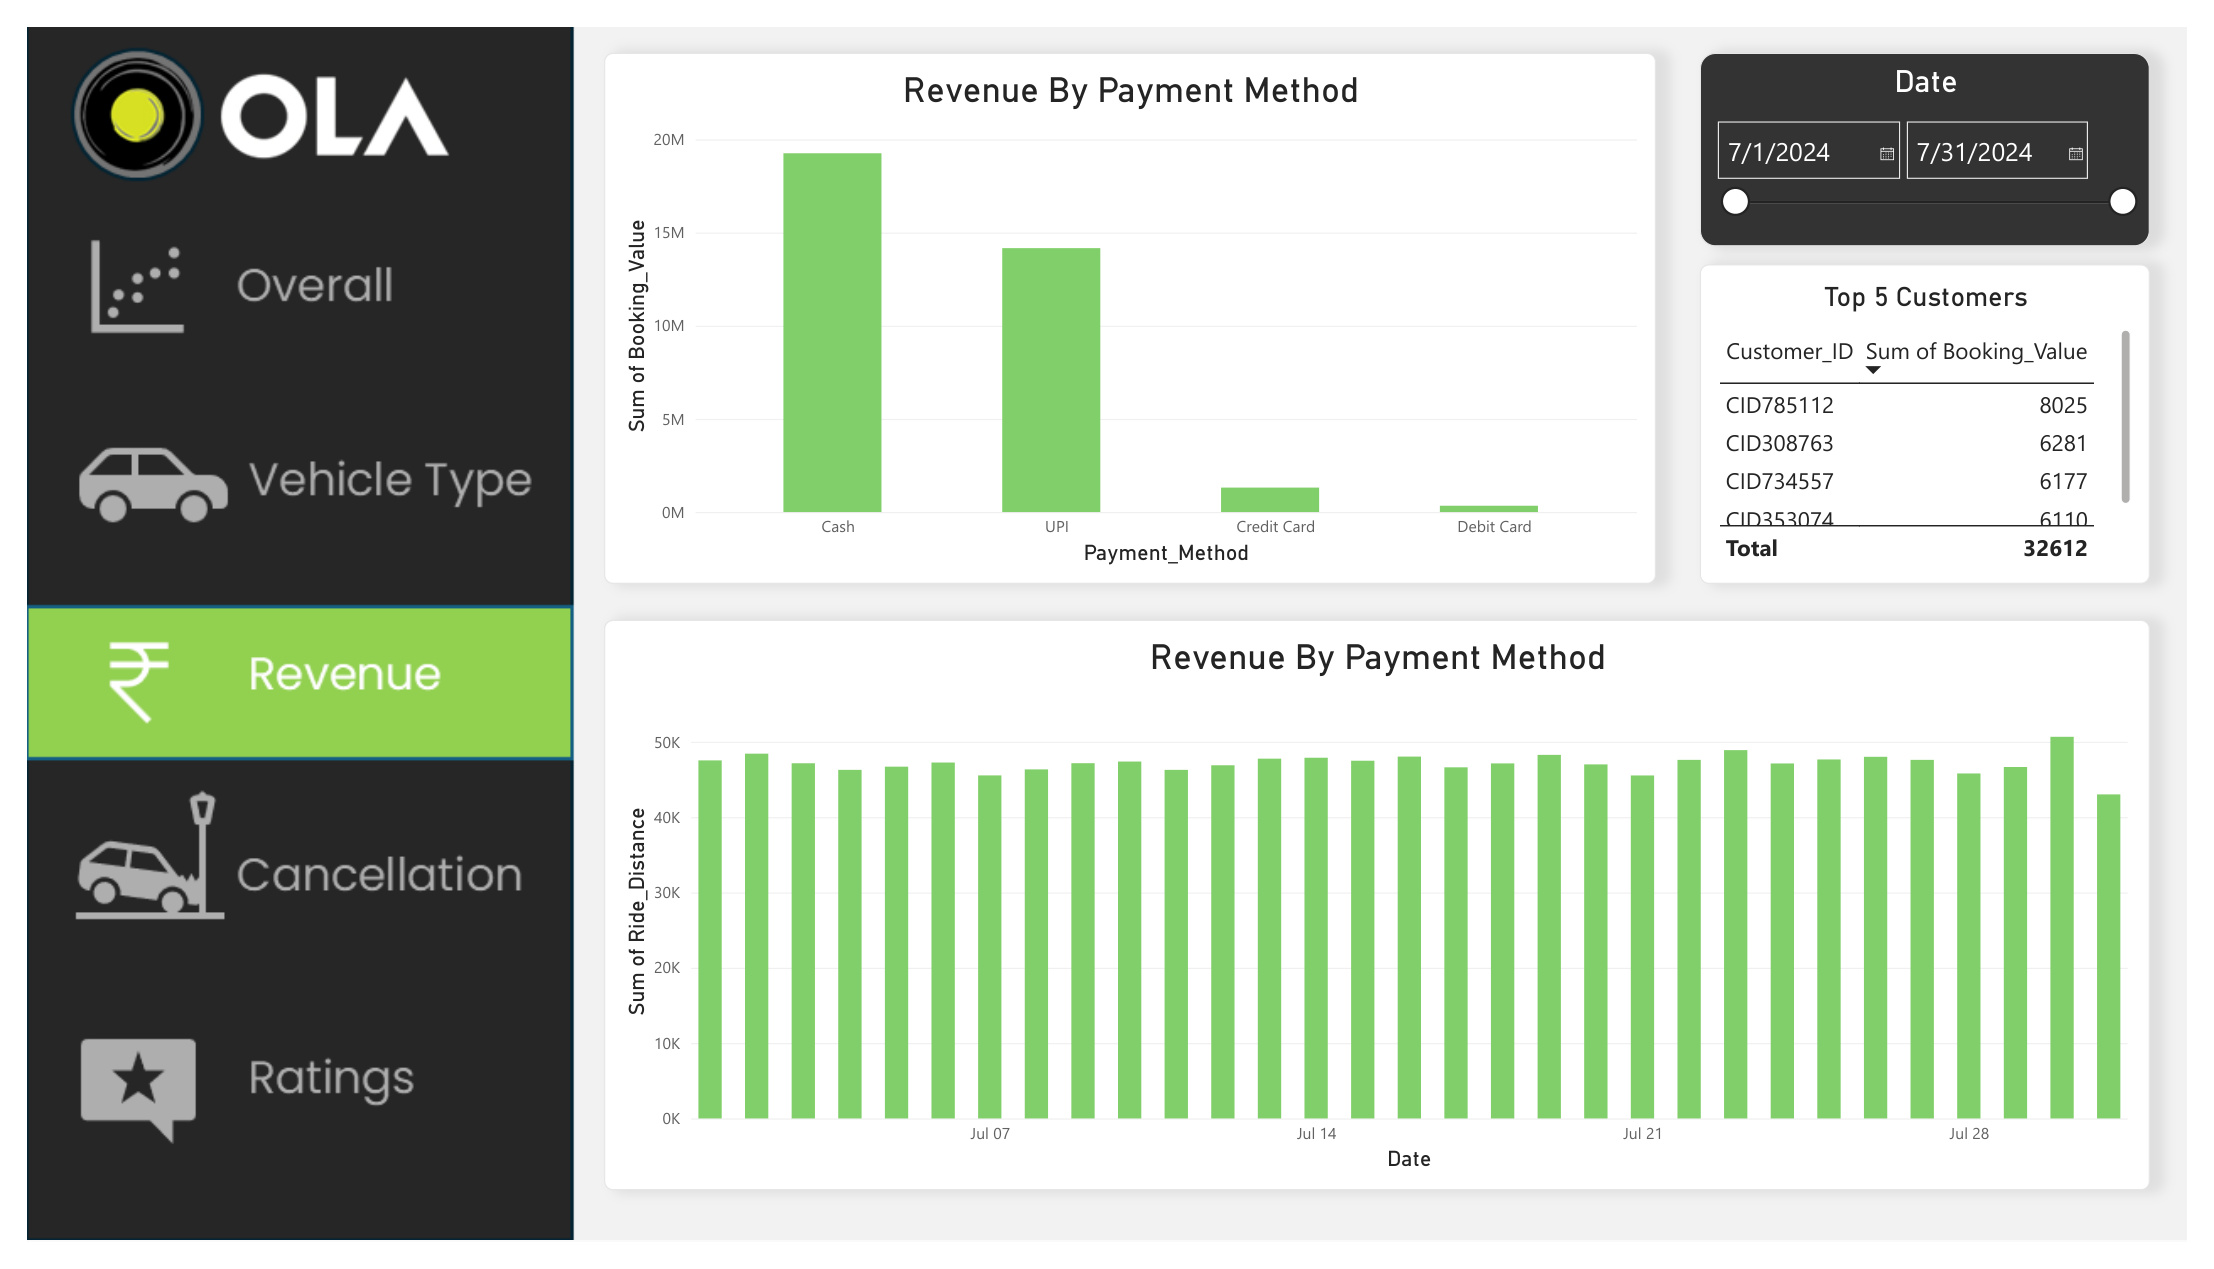

This screenshot's page, from the dashboard's own definition file:
{"tool":"powerbi","page":{"name":"Revenue","canvas":[1920,1080],"ordinal":2},"visuals":[{"type":"actionButton","box":[0,513.9,485,133.9],"z":0},{"type":"actionButton","box":[0,157.4,485,133.9],"z":1000},{"type":"actionButton","box":[0,327.5,485,133.9],"z":2000},{"type":"actionButton","box":[0,669.6,485,133.9],"z":3000},{"type":"actionButton","box":[0,868.6,485,133.9],"z":4000},{"type":"columnChart","title":"Revenue By Payment Method","fields":{"Y":["Sum(July.Booking_Value)"],"Category":["July.Payment_Method"]},"box":[512.5,23.2,935.7,471.4],"z":5000},{"type":"columnChart","title":"Revenue By Payment Method","fields":{"Y":["Sum(July.Ride_Distance)"],"Category":["July.Date"]},"box":[512.5,526.8,1375,507.1],"z":6000},{"type":"slicer","title":"Date","fields":{"Values":["July.Date"]},"box":[1487.5,23.2,400,171.4],"z":7000},{"type":"tableEx","title":"Top 5 Customers","fields":{"Values":["July.Customer_ID","Sum(July.Booking_Value)"]},"box":[1487.5,210.7,400,283.9],"z":8000}]}

Visuals, with their boxes in screenshot pixels (x1, y1, x2, y2), scaled from the page's 1920x1080 canvas onto the 2214x1269 screenshot:
actionButton: <box>0,604,559,761</box>
actionButton: <box>0,185,559,342</box>
actionButton: <box>0,385,559,542</box>
actionButton: <box>0,787,559,944</box>
actionButton: <box>0,1021,559,1178</box>
"Revenue By Payment Method" columnChart: <box>591,27,1670,581</box>
"Revenue By Payment Method" columnChart: <box>591,619,2177,1215</box>
"Date" slicer: <box>1715,27,2177,229</box>
"Top 5 Customers" tableEx: <box>1715,248,2177,581</box>
